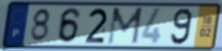2: (85, 7, 109, 45)
4: (140, 6, 164, 47)
6: (57, 7, 82, 45)
8: (28, 7, 51, 44)
9: (170, 7, 194, 46)
M: (106, 6, 145, 46)
